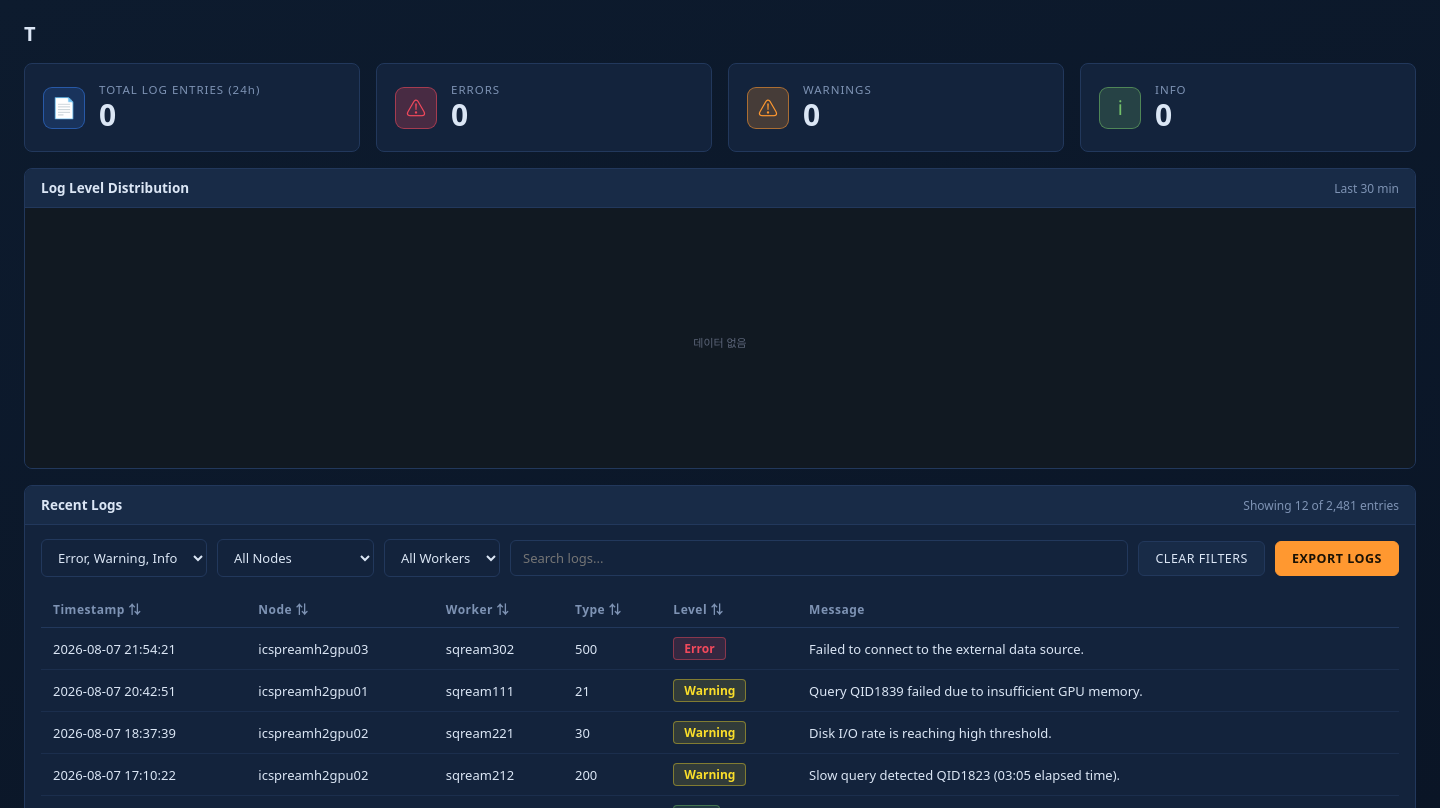
it: Log Monitoring 화면 › 레벨·노드·검색 필터가 목업 로그를 걸러낸다
Check: the text "Showing 12 of 2,481 entries" is shown, box [1243, 496, 1399, 514]
Select "Error" in the dropdown named "레벨" at (124, 558), box [41, 539, 207, 577]
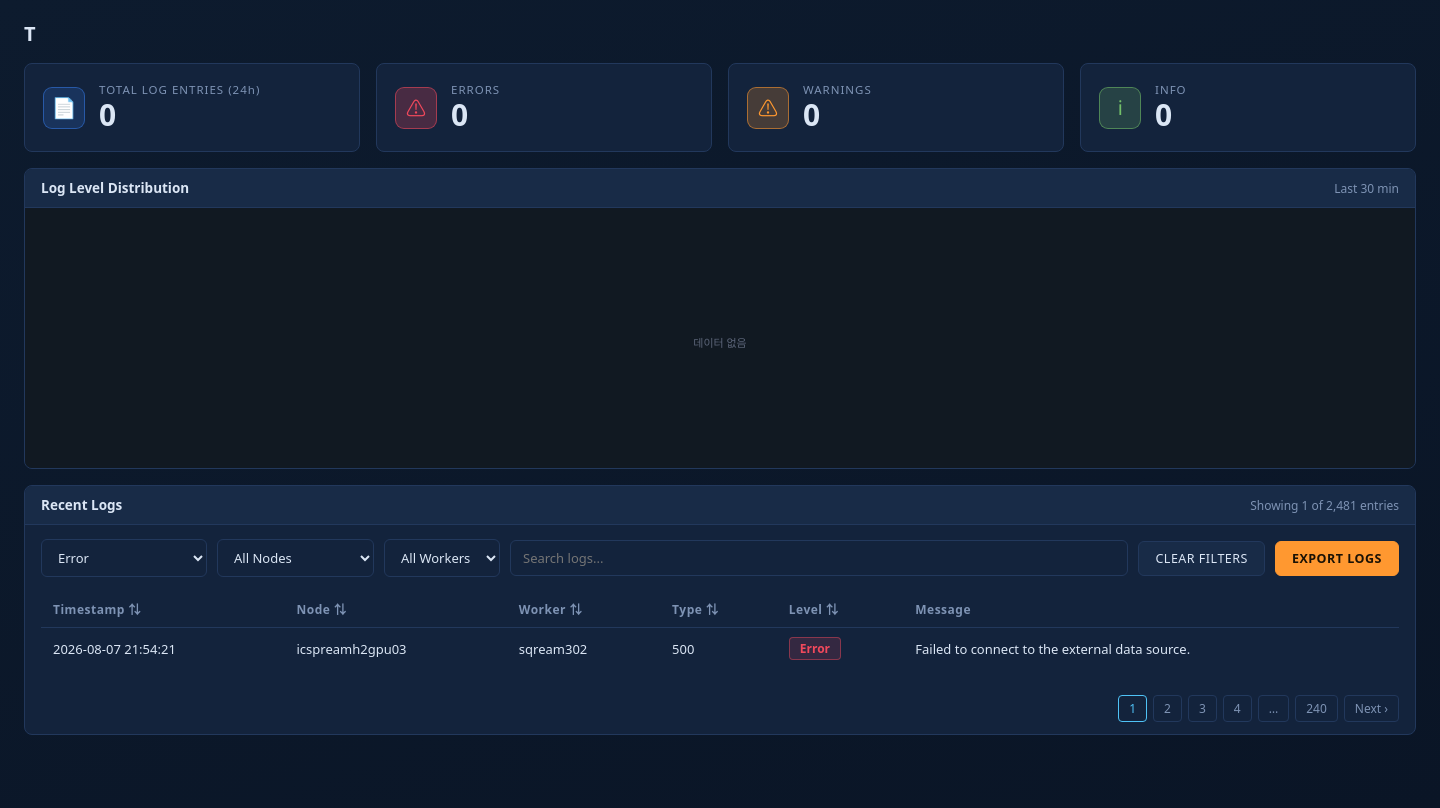
Check: the text "Showing 1 of 2,481 entries" is shown, box [1250, 496, 1399, 514]
Select "Error, Warning, Info" in the dropdown named "레벨" at (124, 558), box [41, 539, 207, 577]
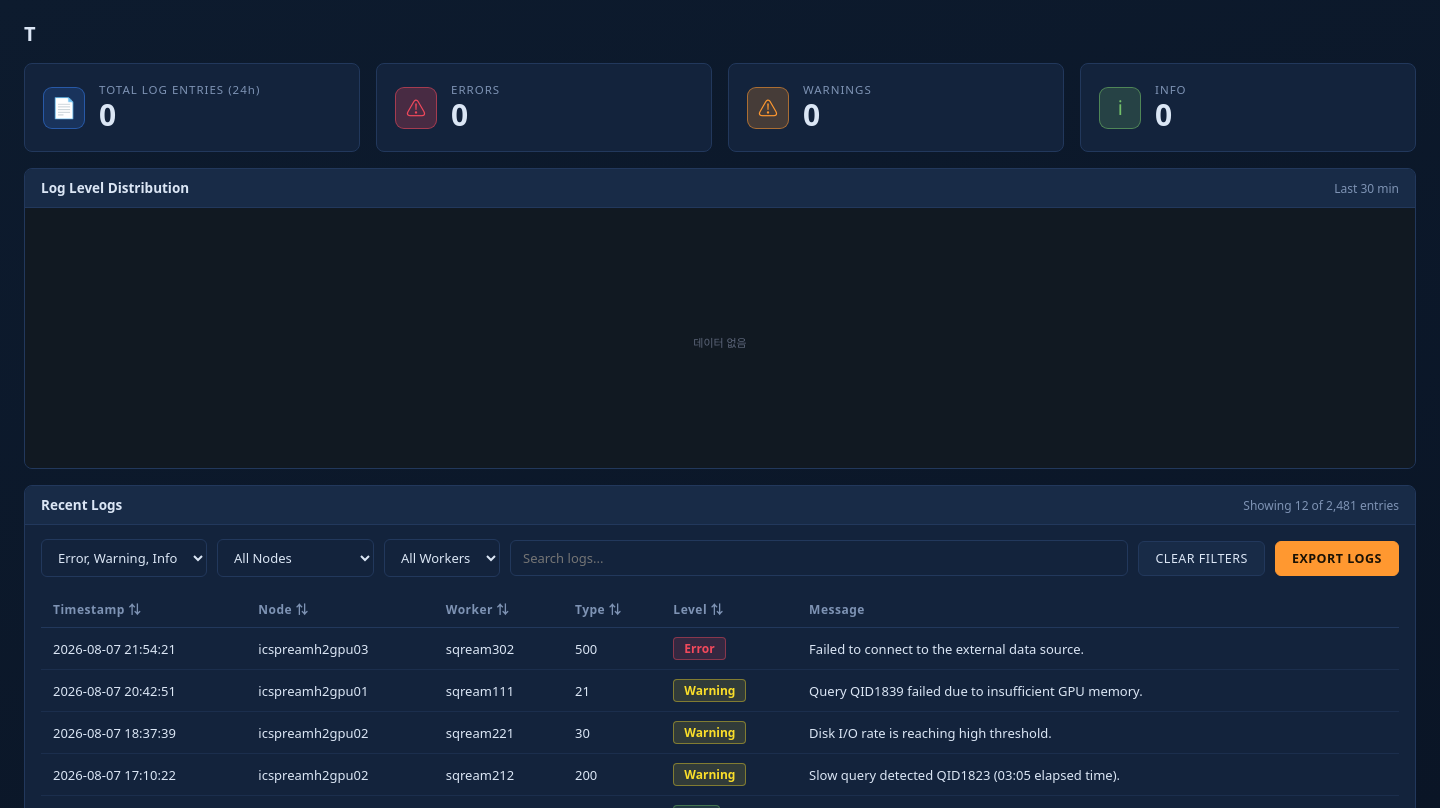
Select "icspreamh2gpu01" in the dropdown named "노드" at (296, 558), box [217, 539, 374, 577]
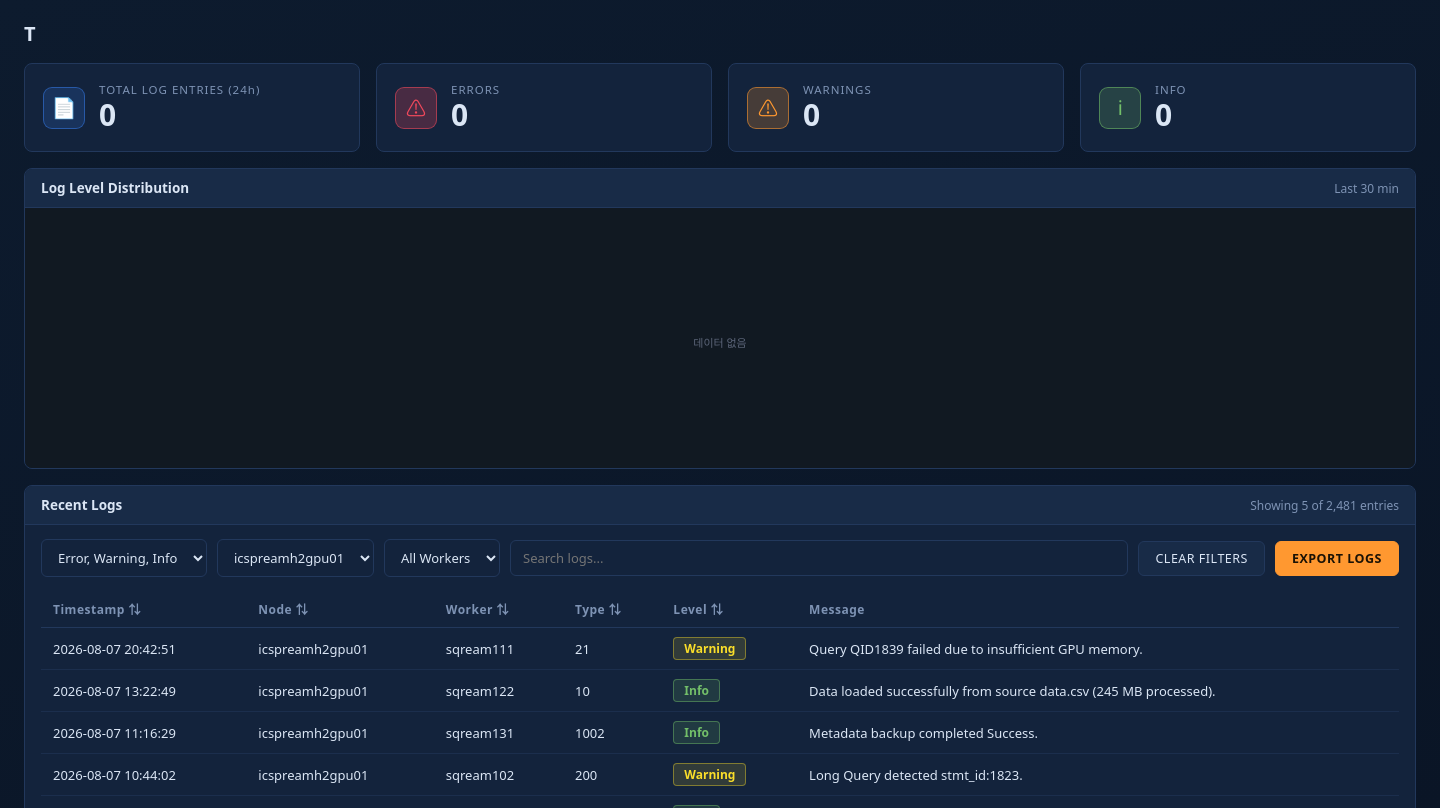
Check: the text "Showing 5 of 2,481 entries" is shown, box [1250, 496, 1399, 514]
Type "rechunk" into the field named "로그 검색" at (819, 558), box [510, 540, 1128, 576]
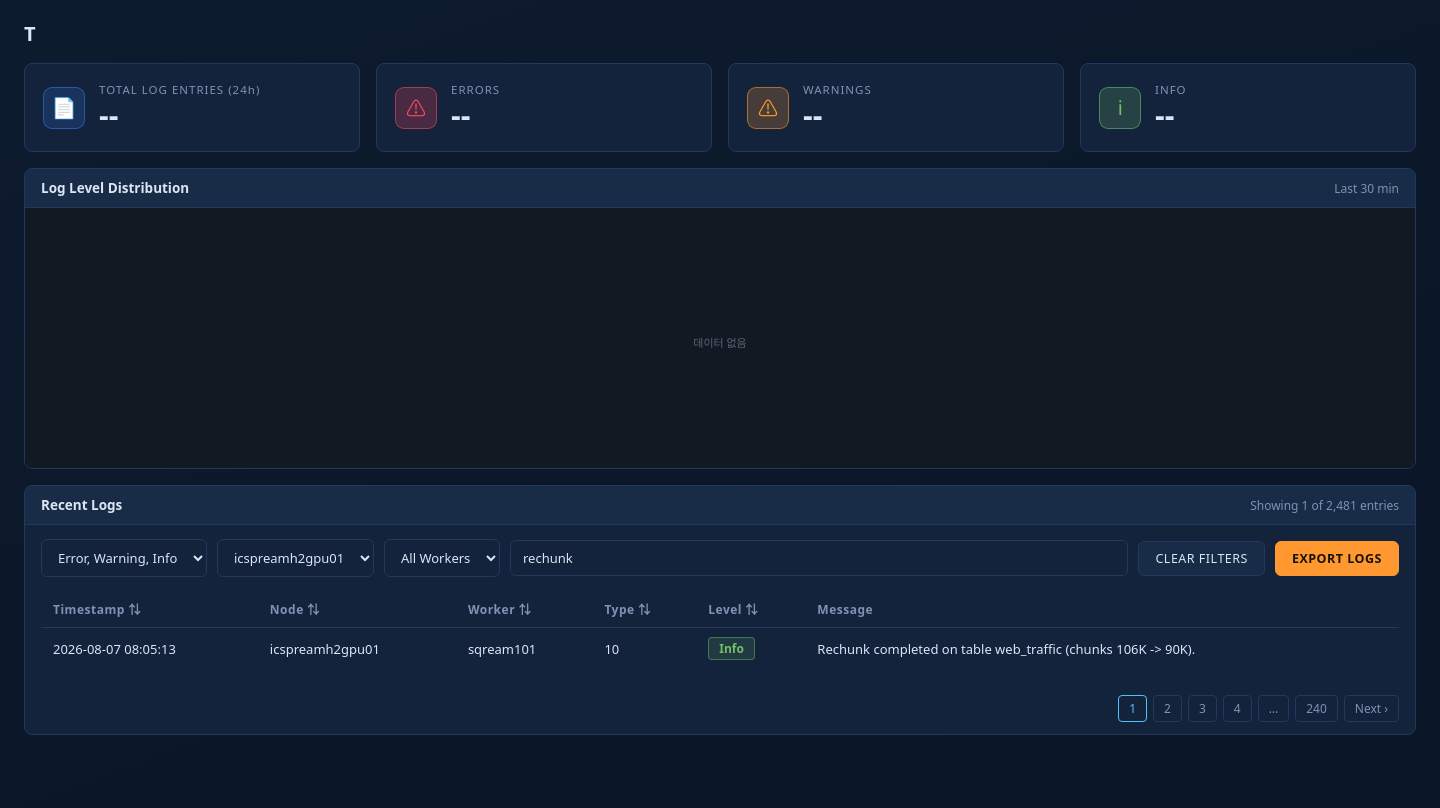
Check: the text "Showing 1 of 2,481 entries" is shown, box [1250, 496, 1399, 514]
